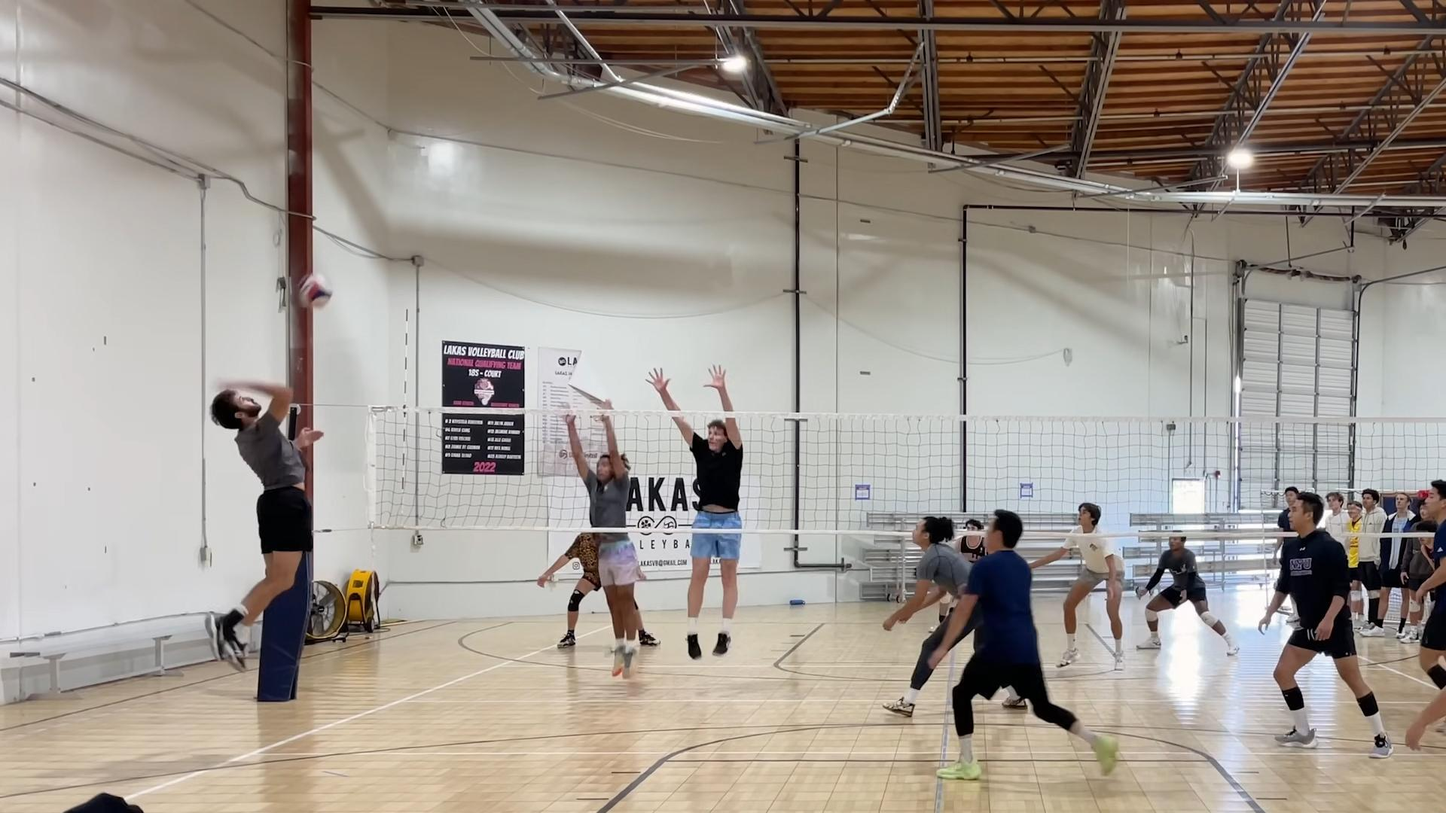attacco: (199, 372, 322, 670)
muro: (641, 358, 754, 661), (556, 394, 662, 679)
